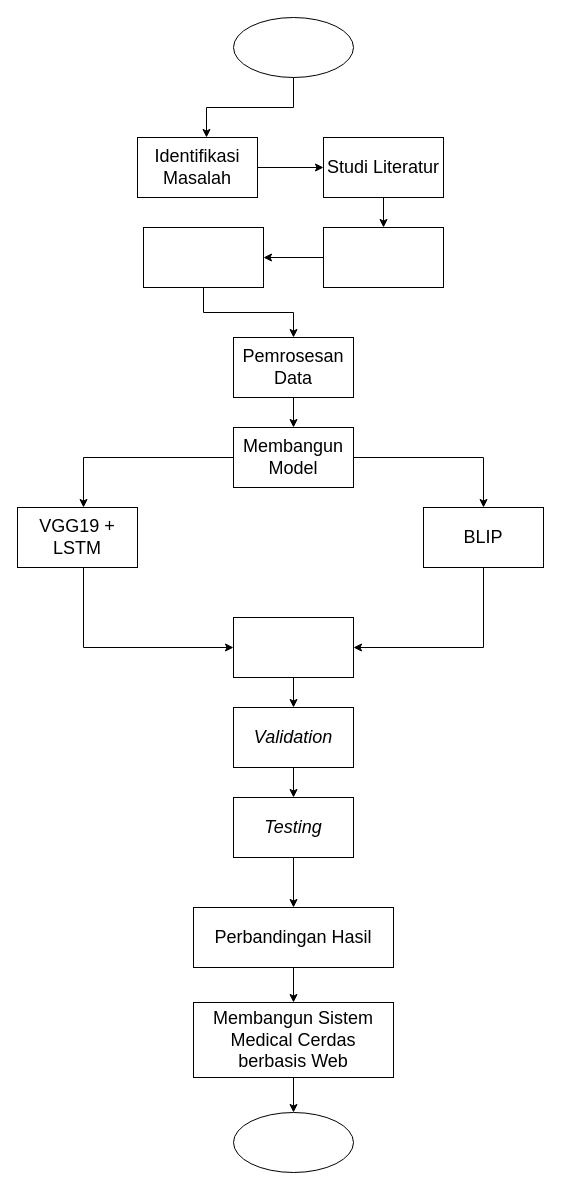
This 561x1190 diagram has some shape labels left out. The shapes that lost their labels are listed below. From the top down, each one's centre as x and y in pixels, then its label:
the point at 293,47: Mulai
the point at 203,257: Exploratory Data Analysis
the point at 383,257: Pengumpulan Data
the point at 293,647: Training
the point at 293,1142: Selesai
